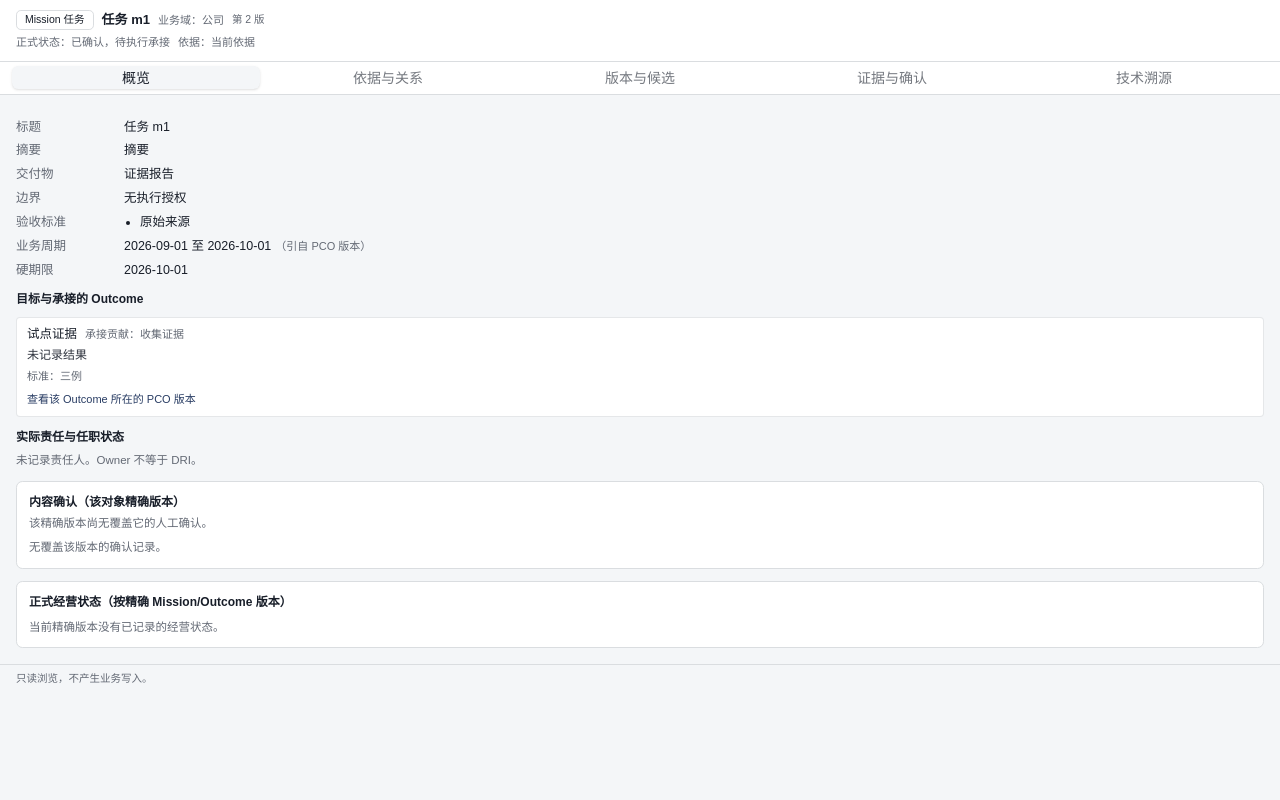
Test: DetailPane › keeps raw JSON and exact ids behind the technical traceability tab only
Click the tab "技术溯源".
click(1144, 78)  # box [1020,66,1268,89]
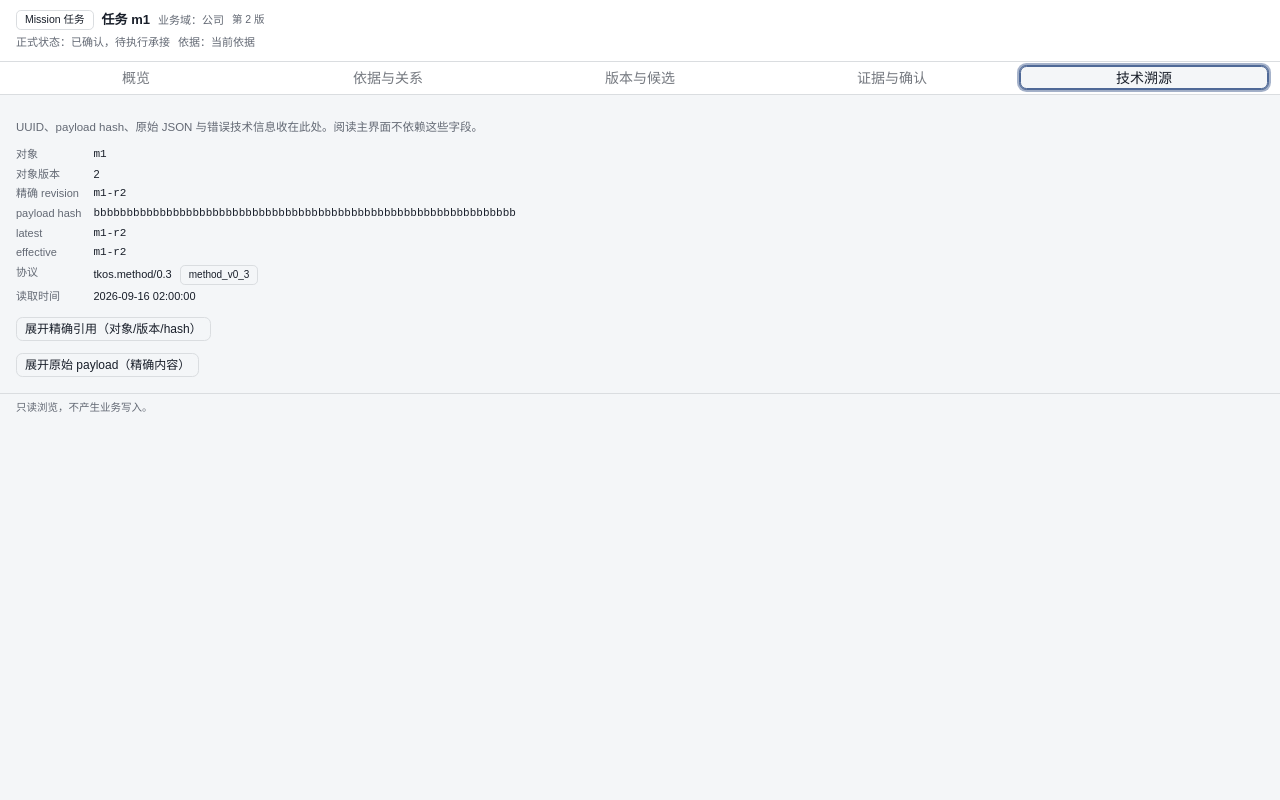
Click the button "展开精确引用（对象/版本/hash）".
click(113, 329)  # box [16,317,211,341]
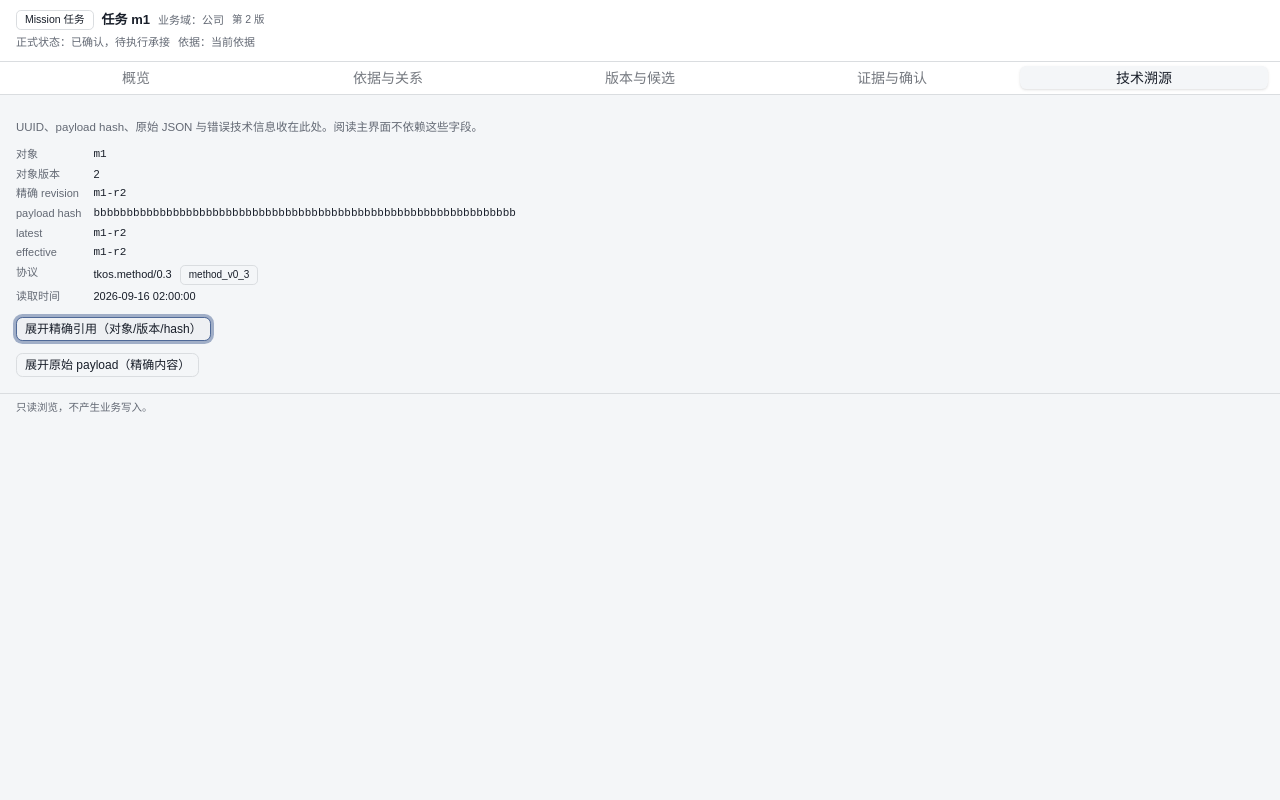
Click the button "展开原始 payload（精确内容）".
click(108, 365)  # box [16,353,199,377]
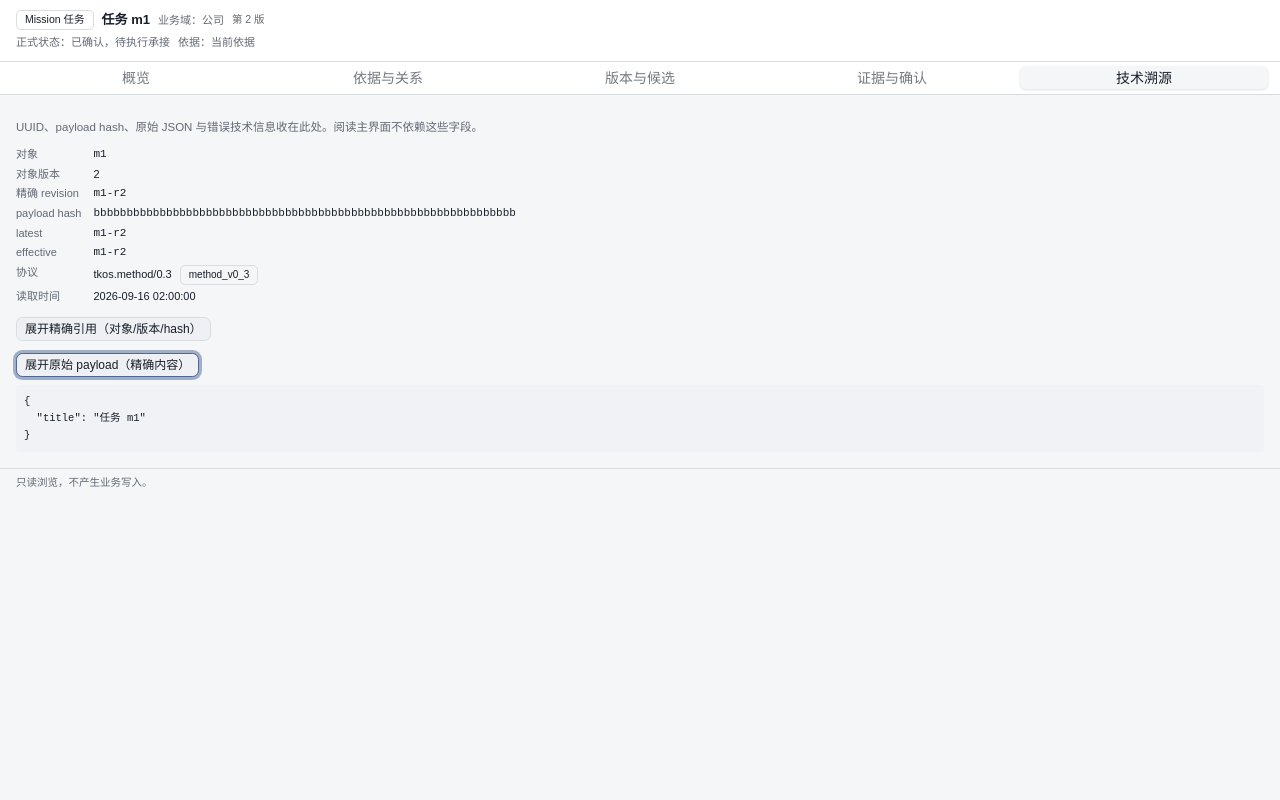
Expected: the text with test id "raw-payload" shows "\"title\": \"任务 m1\"", [24,395,146,441]
